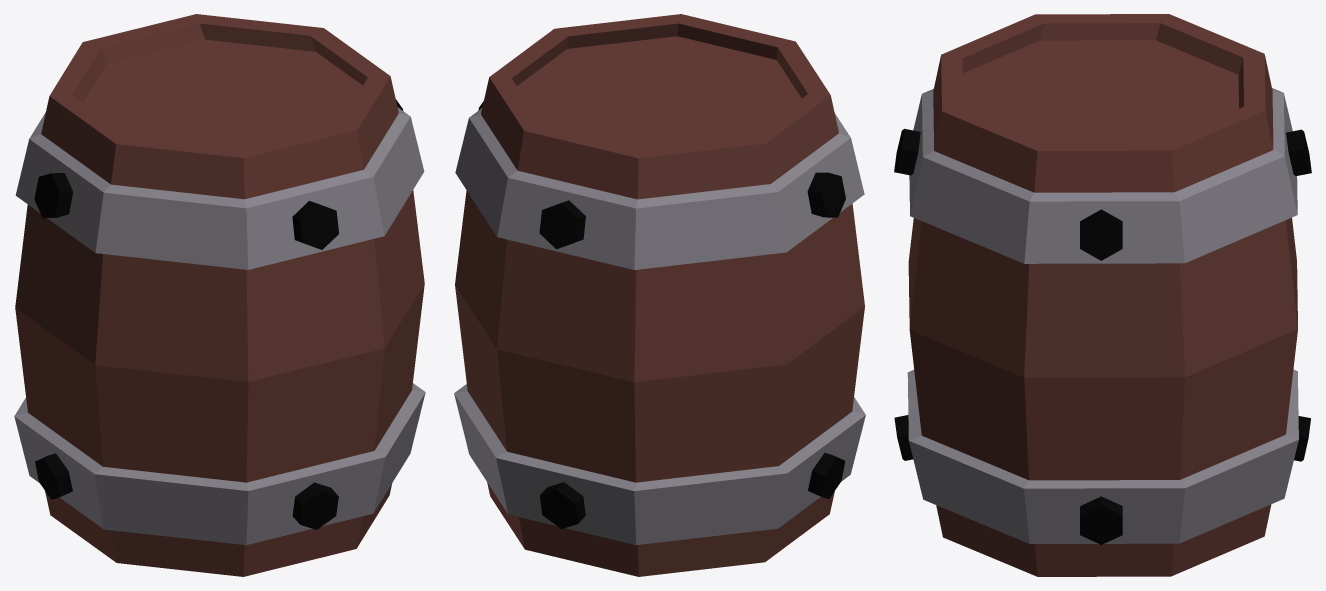
Rendered from barrel_lowpoly.fbx.
3 views of the same model, side by side, from view 1: azimuth 30°, elevation 25°; view 2: azimuth 150°, elevation 25°; view 3: azimuth 270°, elevation 25° (orthographic).
Parts seen in each view (by area): view 1: Cylinder.001; view 2: Cylinder.001; view 3: Cylinder.001.
Boxes of the visible parts, box(x1,y1,x2,y2) form: Cylinder.001: box(14, 14, 425, 576); Cylinder.001: box(454, 14, 865, 576); Cylinder.001: box(894, 14, 1311, 576).
Bounding box in the file's own units: 36.94 × 41.58 × 36.94.
